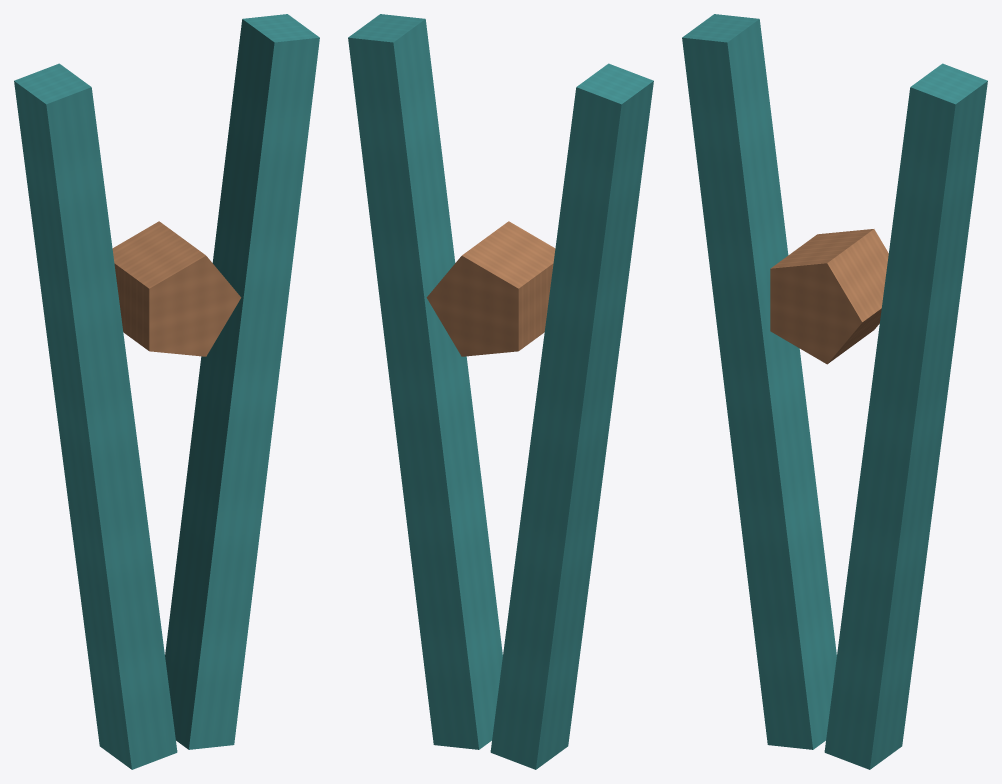
The model's file is atlas100-s093-a05.lod1.glb.
3 renders of one model, left to right at view 1: azimuth 30°, elevation 25°; view 2: azimuth 150°, elevation 25°; view 3: azimuth 330°, elevation 25°, orthographic.
Parts seen in each view (by area): view 1: atlas100-s093-a05:part-001, atlas100-s093-a05:part-000, atlas100-s093-a05:part-002; view 2: atlas100-s093-a05:part-001, atlas100-s093-a05:part-000, atlas100-s093-a05:part-002; view 3: atlas100-s093-a05:part-000, atlas100-s093-a05:part-001, atlas100-s093-a05:part-002.
Part boxes in pixels (x1=…): atlas100-s093-a05:part-001: x1=165, y1=14, x2=319, y2=749; atlas100-s093-a05:part-000: x1=14, y1=63, x2=177, y2=769; atlas100-s093-a05:part-002: x1=112, y1=221, x2=241, y2=356; atlas100-s093-a05:part-001: x1=348, y1=14, x2=502, y2=749; atlas100-s093-a05:part-000: x1=490, y1=63, x2=653, y2=769; atlas100-s093-a05:part-002: x1=426, y1=221, x2=555, y2=356; atlas100-s093-a05:part-000: x1=682, y1=14, x2=836, y2=749; atlas100-s093-a05:part-001: x1=824, y1=63, x2=987, y2=769; atlas100-s093-a05:part-002: x1=770, y1=229, x2=888, y2=364.
Size of the model in its own units: 0.2936 by 0.7102 by 0.0874.
Materials: 2 (2 with a texture image).
